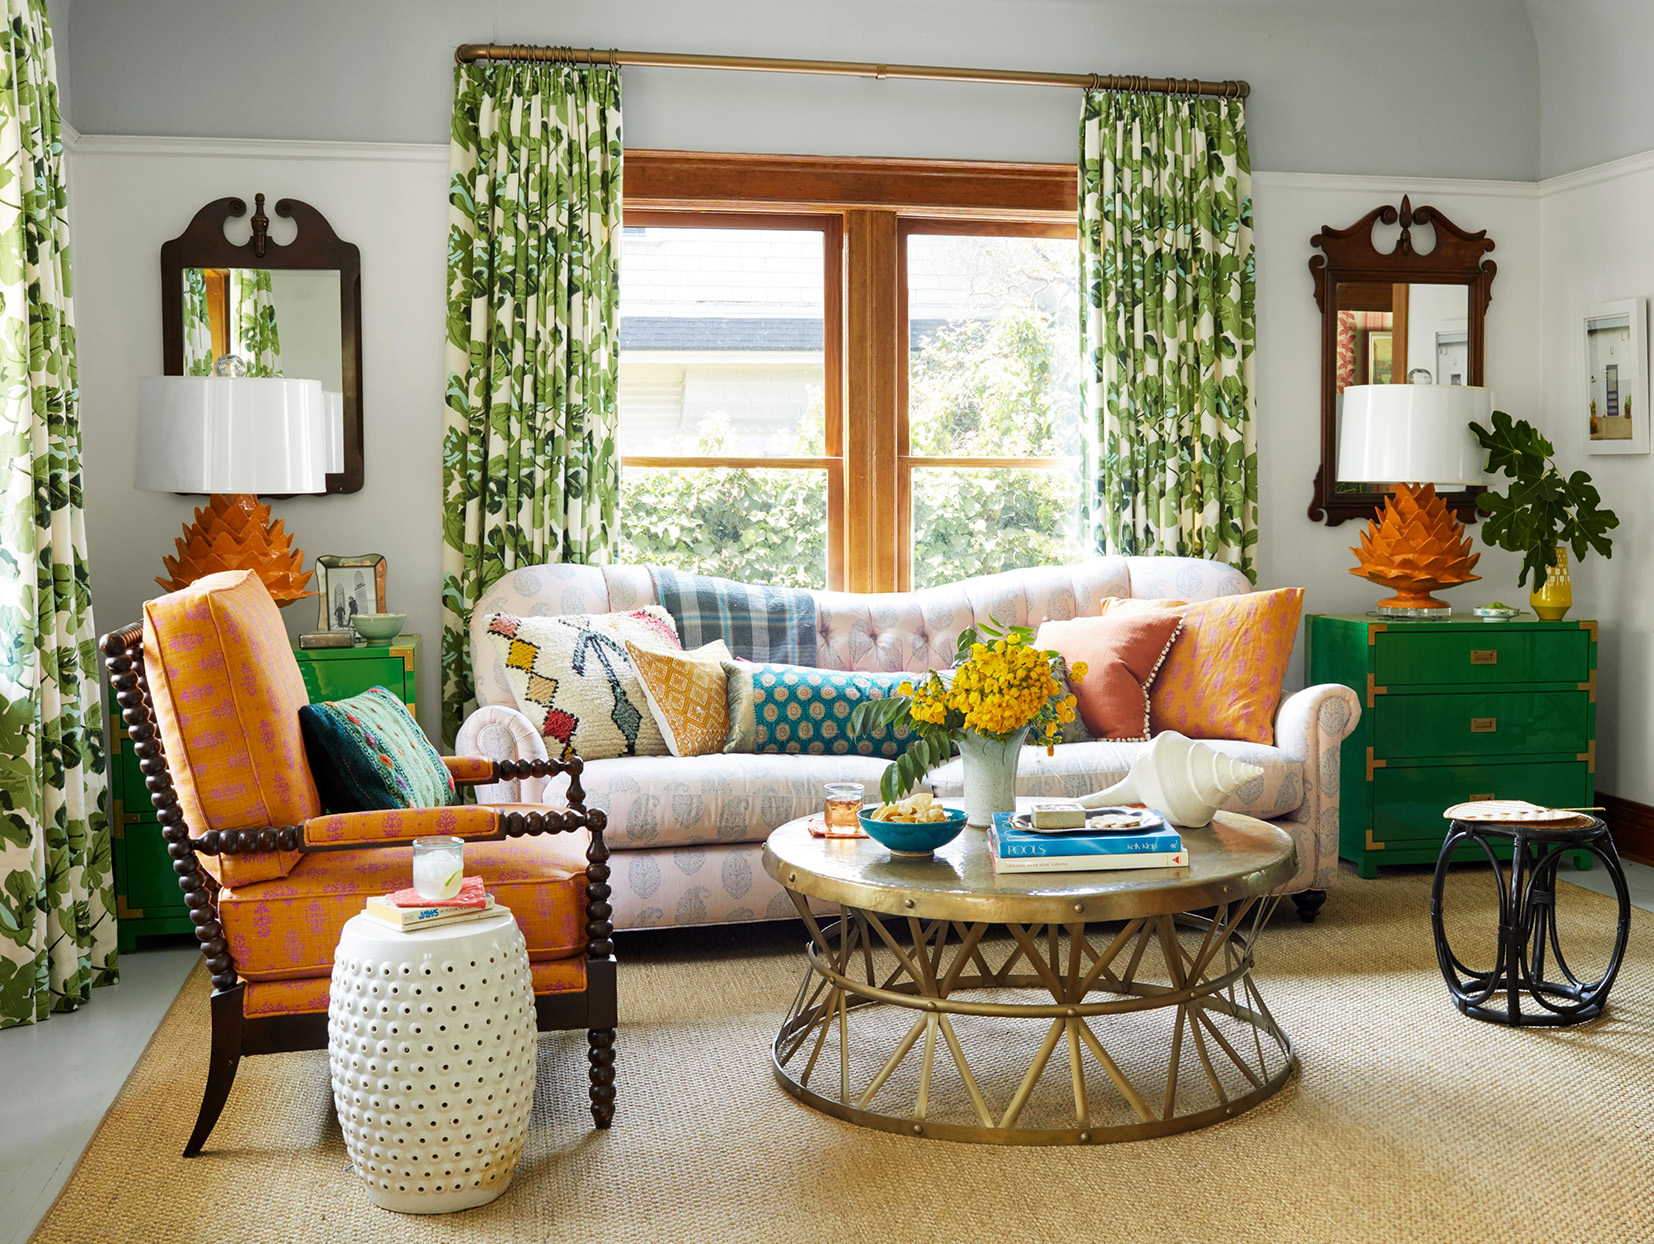hijau: (1325, 608, 1613, 802)
kuning: (937, 656, 1048, 742)
orange: (157, 575, 317, 828), (1120, 591, 1300, 744), (158, 497, 311, 598), (1359, 483, 1470, 618)
putih: (331, 934, 517, 1210), (140, 372, 336, 500), (1333, 385, 1504, 487), (956, 736, 1022, 821)
